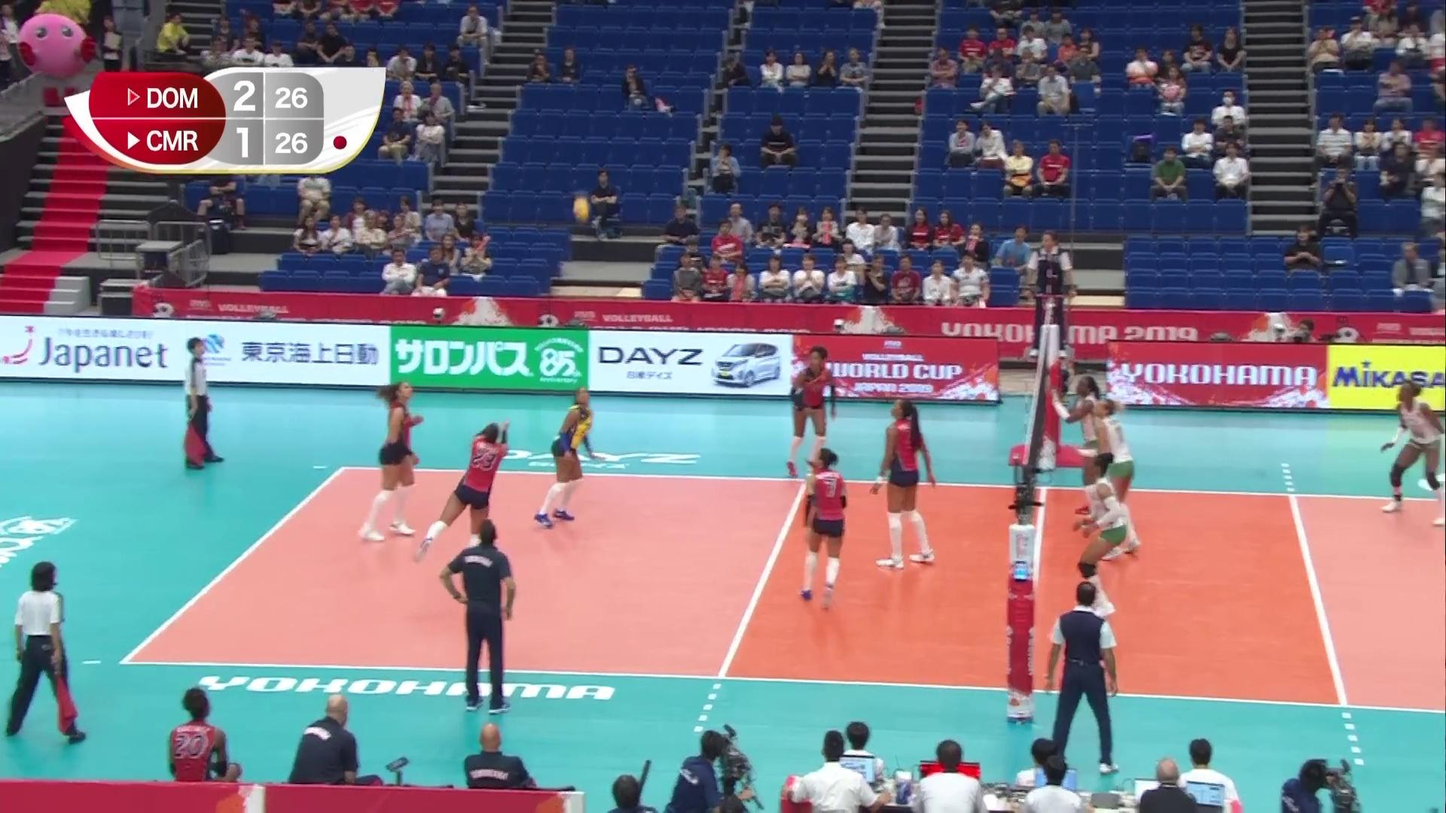player: (0, 0, 102, 143), (417, 421, 514, 558), (873, 399, 941, 570), (360, 381, 425, 541), (1383, 380, 1446, 530), (1079, 456, 1129, 619), (538, 389, 595, 527), (799, 451, 848, 610), (1057, 376, 1109, 525), (1091, 399, 1139, 558), (790, 347, 837, 475)
refree: (4, 560, 84, 739), (1045, 584, 1119, 772), (182, 340, 224, 466), (1030, 230, 1070, 356)
